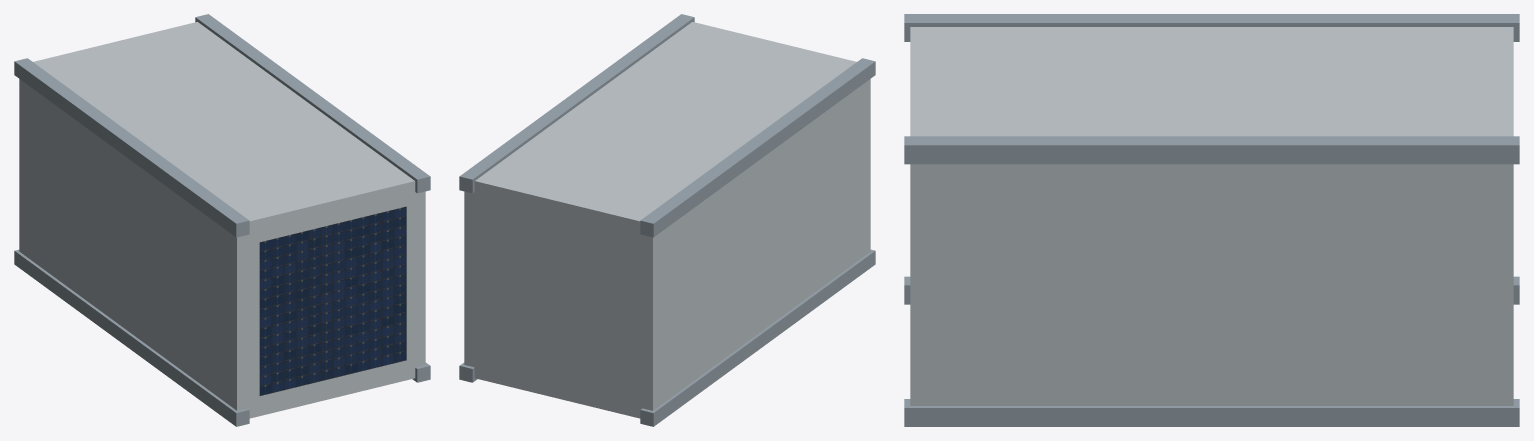
File: ref-cubesat-1-5u-44443.glb
3 renders of one model, left to right at view 1: azimuth 30°, elevation 25°; view 2: azimuth 150°, elevation 25°; view 3: azimuth 270°, elevation 25°, orthographic. The views are drawn at different scales.
Visible parts, largest first — view 1: Spacecraft body, Body-mounted cells, Dispenser rail (×3); view 2: Spacecraft body, Dispenser rail (×3); view 3: Spacecraft body, Dispenser rail (×3).
Part boxes in pixels (x1,y1,x2,y2): Spacecraft body: [19, 22, 425, 418]; Body-mounted cells: [259, 206, 406, 395]; Dispenser rail (×3): [14, 14, 430, 426]; Spacecraft body: [464, 22, 870, 418]; Dispenser rail (×3): [459, 14, 875, 426]; Spacecraft body: [910, 27, 1513, 405]; Dispenser rail (×3): [904, 14, 1519, 426].
Size of the model in its own units: 0.103 by 0.103 by 0.204.
3 materials, 1 textured.
